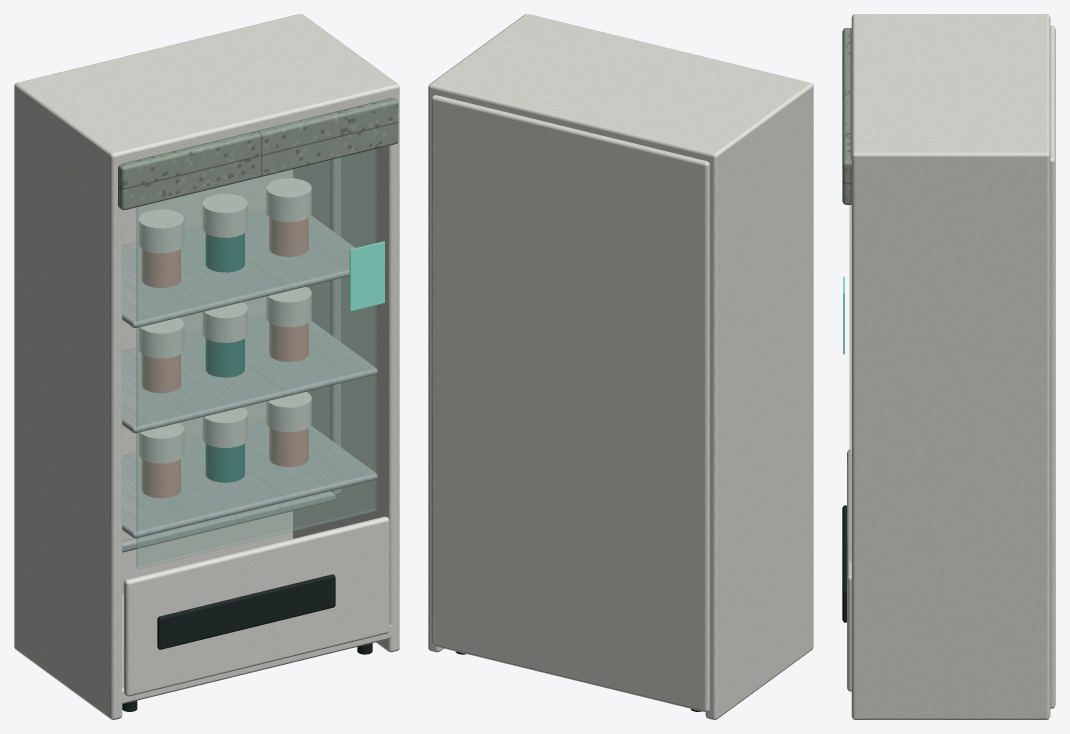
The model's file is detail-toy-cabinet-0.glb.
3 renders of one model, left to right at view 1: azimuth 30°, elevation 25°; view 2: azimuth 150°, elevation 25°; view 3: azimuth 270°, elevation 25°, orthographic.
Visible parts, largest first — view 1: cabinet_side (×2), display_glass, shelf (×3), cabinet_cap (×2), lower_door, toy_head (×9), header, toy_body (×9), cabinet_back, pickup_opening, frame_rail, frame_side (+1 smaller); view 2: cabinet_back, cabinet_side (×2), cabinet_cap; view 3: cabinet_side (×2), cabinet_cap, cabinet_back, header, lower_door, display_glass, pickup_opening.
Part boxes in pixels (x1,y1,x2,y2): cabinet_side (×2): (14,14,399,719); display_glass: (136,149,376,568); shelf (×3): (122,211,377,538); cabinet_cap (×2): (23,15,392,703); lower_door: (123,516,389,696); toy_head (×9): (138,178,311,463); header: (118,97,398,210); toy_body (×9): (141,218,308,498); cabinet_back: (122,169,292,594); pickup_opening: (157,574,335,649); frame_rail: (122,491,336,552); frame_side: (329,157,340,495); cabinet_back: (431,95,709,712); cabinet_side (×2): (428,14,813,719); cabinet_cap: (435,15,804,160); cabinet_side (×2): (851,14,1050,719); cabinet_cap: (851,17,1050,152); cabinet_back: (1050,25,1055,708); header: (842,28,851,204); lower_door: (847,449,851,691); display_glass: (849,205,851,561); pickup_opening: (842,505,846,622).
Bounding box in the file's own units: 1.1 × 2.05 × 0.6975.
Materials: 8 (6 with a texture image).
